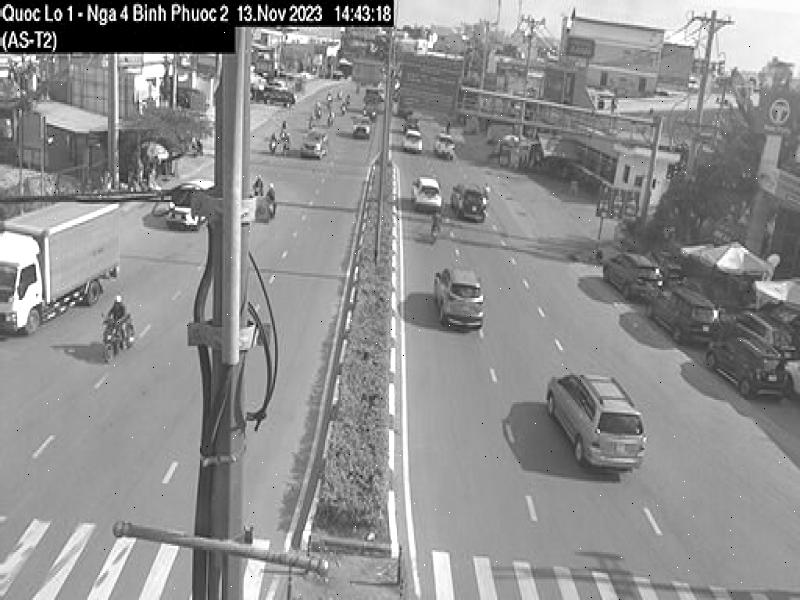truck: (0, 200, 120, 334)
